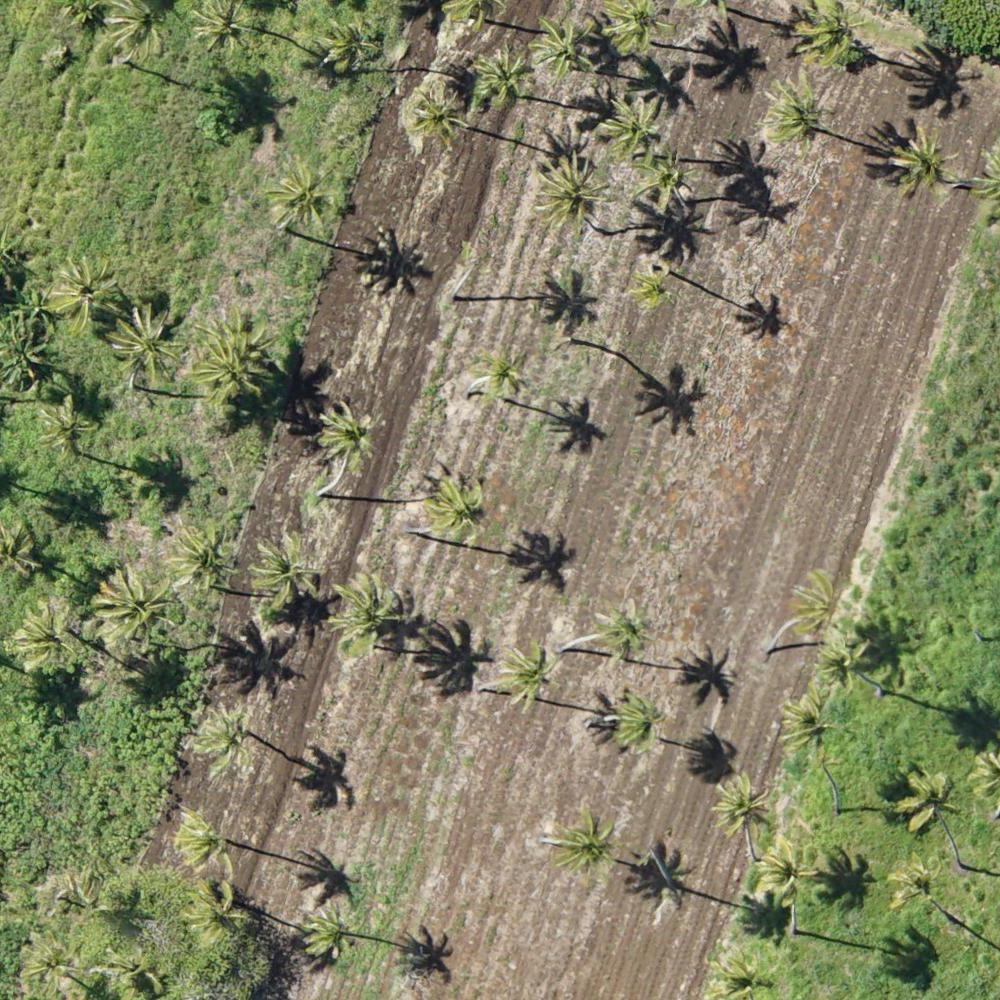Palm: (531, 149, 615, 230), (329, 574, 409, 656), (92, 565, 171, 643), (251, 533, 324, 613), (46, 255, 119, 328), (111, 306, 182, 380), (625, 145, 697, 215), (597, 93, 670, 162), (889, 130, 961, 198), (790, 2, 858, 71), (174, 522, 242, 590), (276, 159, 341, 228), (192, 344, 264, 406), (14, 604, 78, 669), (764, 80, 830, 143), (554, 814, 622, 875), (775, 692, 835, 761), (105, 2, 174, 62), (471, 48, 537, 110), (896, 766, 959, 830), (407, 84, 470, 148), (607, 694, 668, 759), (192, 2, 257, 63), (197, 698, 248, 775), (888, 855, 951, 917), (813, 631, 875, 694), (34, 395, 97, 457), (793, 564, 850, 632), (181, 884, 249, 941), (499, 645, 563, 705), (536, 18, 598, 79), (312, 402, 373, 463), (296, 900, 356, 962), (21, 928, 83, 988), (595, 600, 656, 660), (759, 841, 820, 900), (711, 769, 769, 831), (178, 809, 231, 875), (428, 476, 486, 535), (601, 1, 667, 51), (474, 346, 531, 401), (320, 18, 378, 72), (47, 869, 103, 924), (623, 262, 682, 313)
